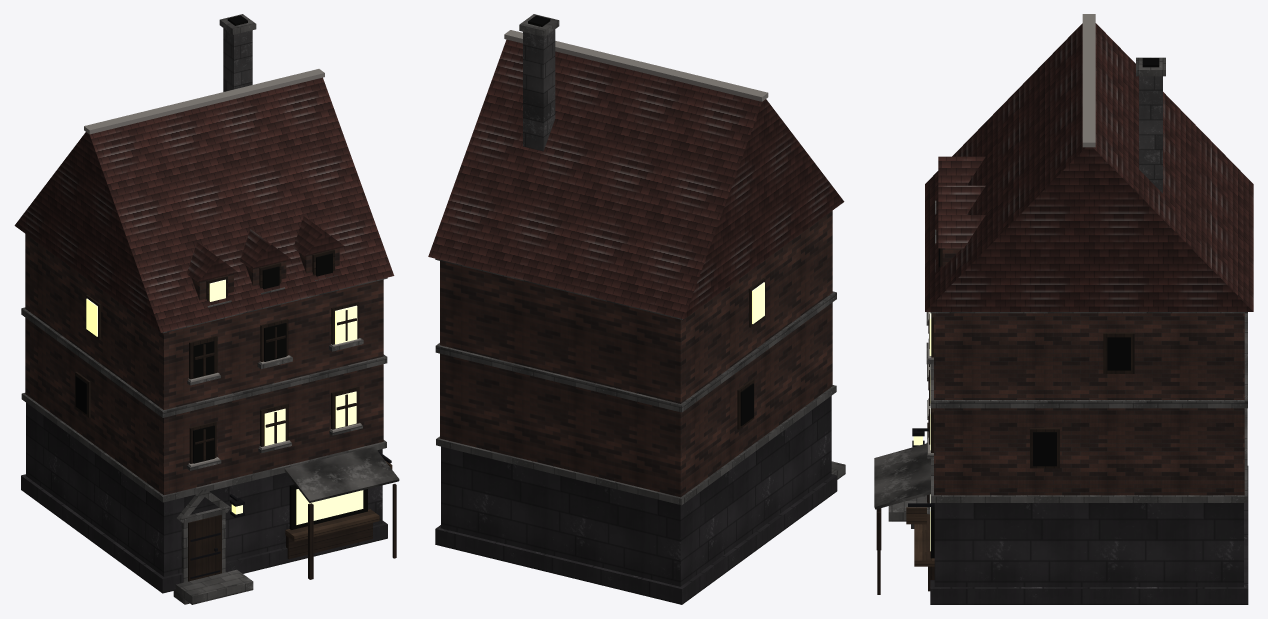
The model's file is CasaB18.gltf.
3 views of the same model, side by side, from view 1: azimuth 30°, elevation 25°; view 2: azimuth 150°, elevation 25°; view 3: azimuth 270°, elevation 25° (orthographic). The views are drawn at different scales.
Visible parts, largest first — view 1: CasaB18; view 2: CasaB18; view 3: CasaB18.
Boxes of the visible parts, x1,y1,x2,y2 form: CasaB18: [14, 14, 399, 604]; CasaB18: [428, 14, 845, 604]; CasaB18: [874, 14, 1253, 604].
Bounding box in the file's own units: 9.28 × 17.62 × 11.54.
12 materials, 8 textured.
